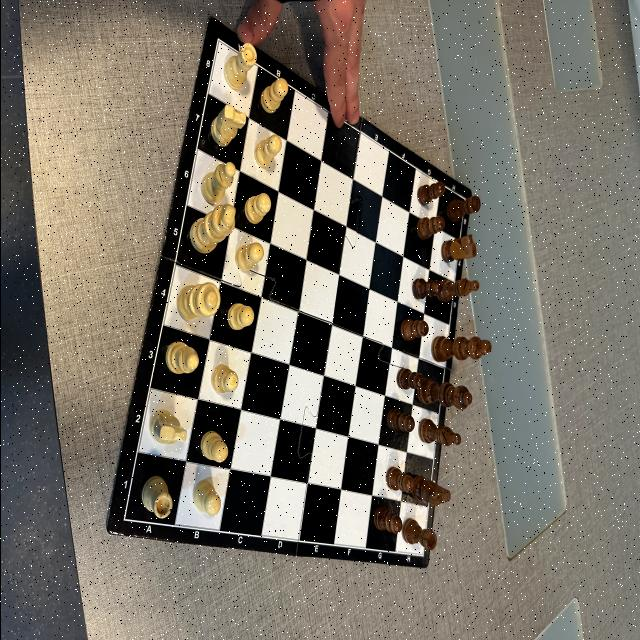Black-Bishop: (416, 418, 461, 446), (436, 278, 478, 302)
Black-King: (430, 336, 490, 362)
Black-Knight: (412, 476, 450, 508), (440, 234, 476, 263)
Black-Pawn: (384, 466, 414, 494), (372, 506, 402, 534), (416, 181, 444, 205), (416, 216, 444, 240), (386, 408, 414, 432), (412, 278, 442, 300), (400, 319, 428, 341), (396, 368, 424, 390)
Black-Queen: (416, 378, 472, 410)
Black-Rook: (401, 518, 436, 552), (446, 195, 480, 223)
White-Bishop: (200, 162, 236, 204), (163, 341, 199, 376)
White-King: (188, 204, 236, 254)
White-Knight: (209, 104, 245, 147), (148, 410, 186, 446)
White-Pawn: (192, 479, 220, 517), (260, 78, 288, 114), (253, 134, 281, 168), (242, 193, 270, 225), (200, 430, 228, 462), (234, 242, 263, 272), (210, 364, 238, 394), (226, 302, 254, 330)
White-Queen: (176, 282, 220, 320)
White-Rook: (222, 42, 256, 90), (140, 477, 173, 520)
